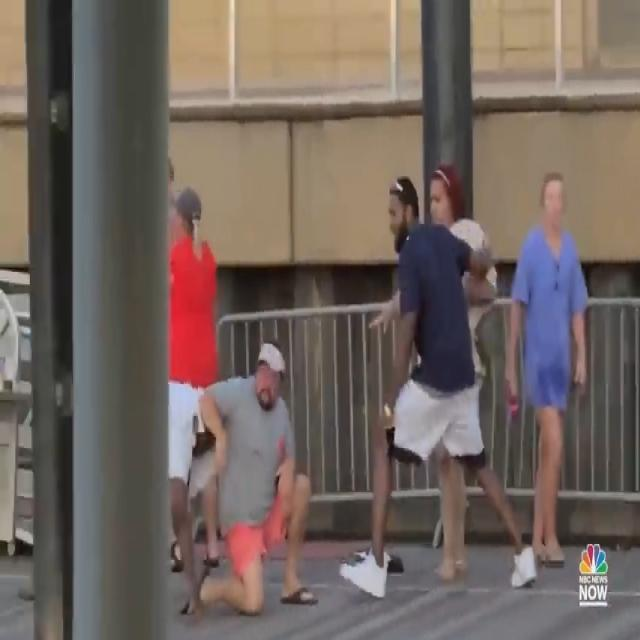fight: (166, 338, 321, 627)
